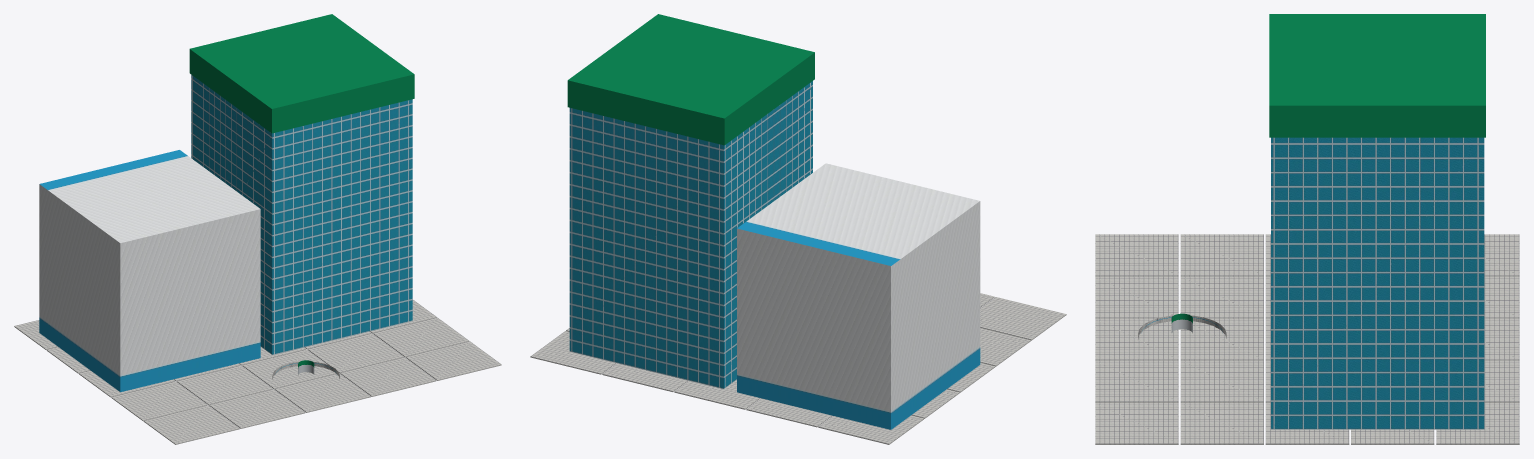
3 views of the same model, side by side, from view 1: azimuth 30°, elevation 25°; view 2: azimuth 150°, elevation 25°; view 3: azimuth 270°, elevation 25° (orthographic). The views are drawn at different scales.
Parts seen in each view (by area): view 1: 28185_B31_Celltrion_Global_RND_Plant; view 2: 28185_B31_Celltrion_Global_RND_Plant; view 3: 28185_B31_Celltrion_Global_RND_Plant.
Boxes of the visible parts, x1,y1,x2,y2 form: 28185_B31_Celltrion_Global_RND_Plant: (14,14,501,444); 28185_B31_Celltrion_Global_RND_Plant: (530,14,1066,444); 28185_B31_Celltrion_Global_RND_Plant: (1095,14,1519,444).
Bounding box in the file's own units: 55.8 × 40.5 × 47.8.
Materials: 1 (1 with a texture image).
